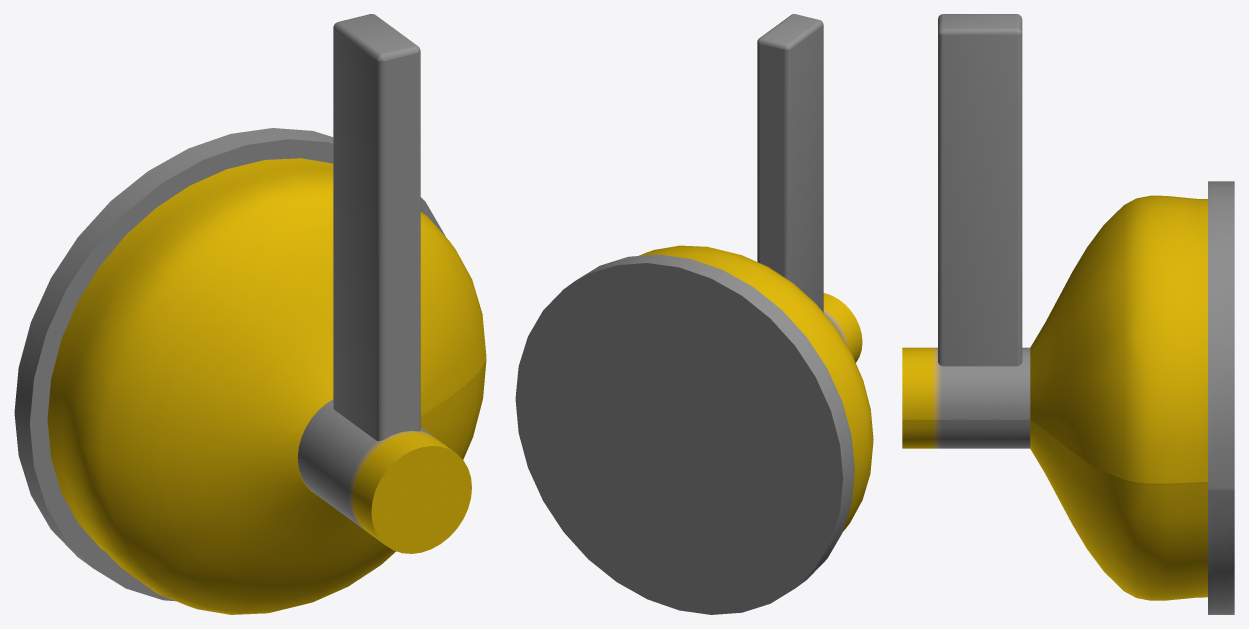
File: PressMovable.fbx
3 views of the same model, side by side, from view 1: azimuth 30°, elevation 25°; view 2: azimuth 150°, elevation 25°; view 3: azimuth 270°, elevation 25° (orthographic). The views are drawn at different scales.
Visible parts, largest first — view 1: PressMovable; view 2: PressMovable; view 3: PressMovable.
Part boxes in pixels (bbox=[...]): PressMovable: bbox=[14, 14, 486, 614]; PressMovable: bbox=[515, 14, 873, 614]; PressMovable: bbox=[902, 14, 1234, 614].
Size of the model in its own units: 251 by 367 by 193.
Materials: 1 (1 with a texture image).
